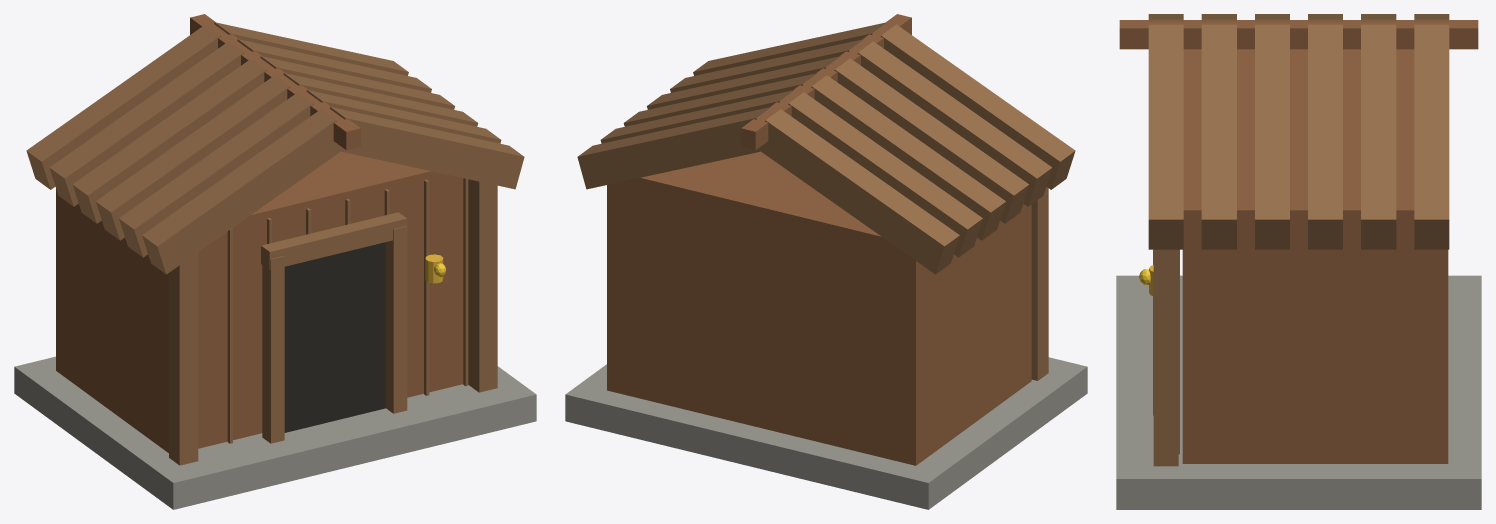
The model's file is board_boca_mina.glb.
3 views of the same model, side by side, from view 1: azimuth 30°, elevation 25°; view 2: azimuth 150°, elevation 25°; view 3: azimuth 270°, elevation 25° (orthographic). The views are drawn at different scales.
Visible parts, largest first — view 1: board_boca_mina; view 2: board_boca_mina; view 3: board_boca_mina.
Boxes of the visible parts, box(x1,y1,x2,y2) form: board_boca_mina: box(14, 14, 536, 509); board_boca_mina: box(565, 14, 1087, 509); board_boca_mina: box(1116, 14, 1481, 509).
Bounding box in the file's own units: 8 × 7 × 6.
